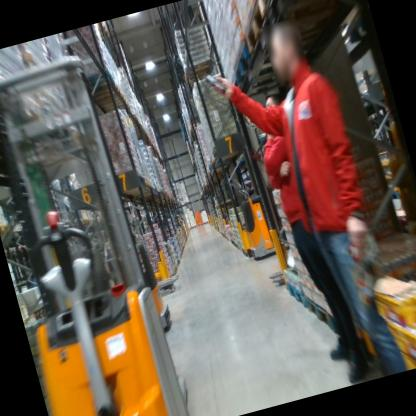pallet: (228, 11, 378, 93), (236, 0, 374, 64), (300, 283, 341, 343), (278, 269, 308, 317), (179, 55, 216, 83), (82, 66, 114, 90), (89, 79, 122, 102), (209, 146, 242, 168), (210, 137, 239, 161), (0, 218, 12, 237), (16, 239, 32, 253), (133, 170, 146, 187), (5, 241, 18, 256), (60, 217, 74, 228), (143, 174, 151, 189), (81, 215, 91, 227), (170, 267, 177, 279), (174, 260, 181, 271), (173, 264, 179, 275), (202, 219, 210, 225), (191, 224, 197, 230), (197, 221, 203, 227)
pallet_truck: (0, 43, 195, 416), (57, 135, 185, 349), (210, 124, 302, 266)
